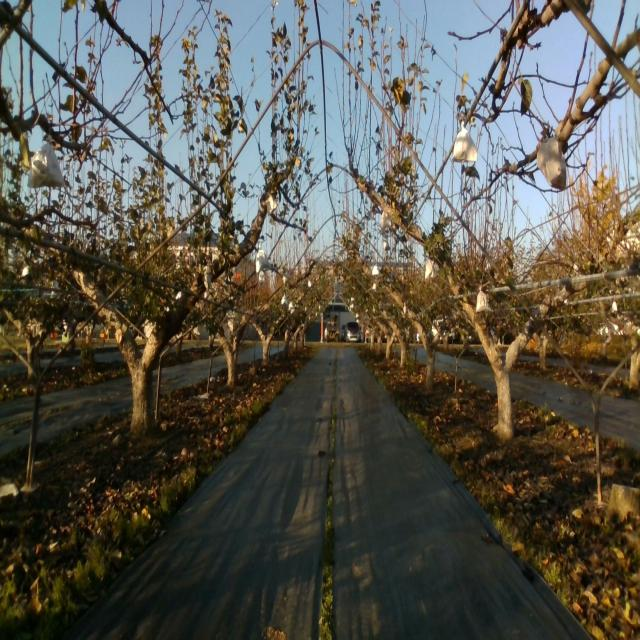pearbags: (24, 135, 66, 188), (536, 131, 567, 191), (452, 121, 477, 164), (476, 286, 494, 312), (255, 240, 269, 272), (263, 191, 279, 217), (201, 264, 213, 292), (380, 209, 393, 233), (424, 258, 438, 279)
